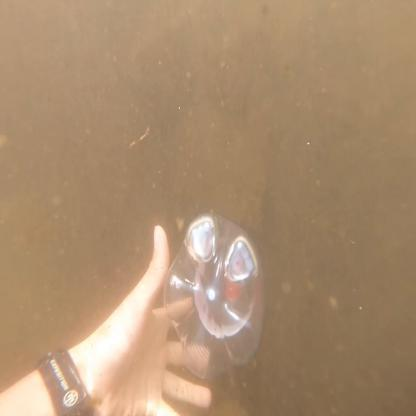Rác: (133, 219, 281, 373)
